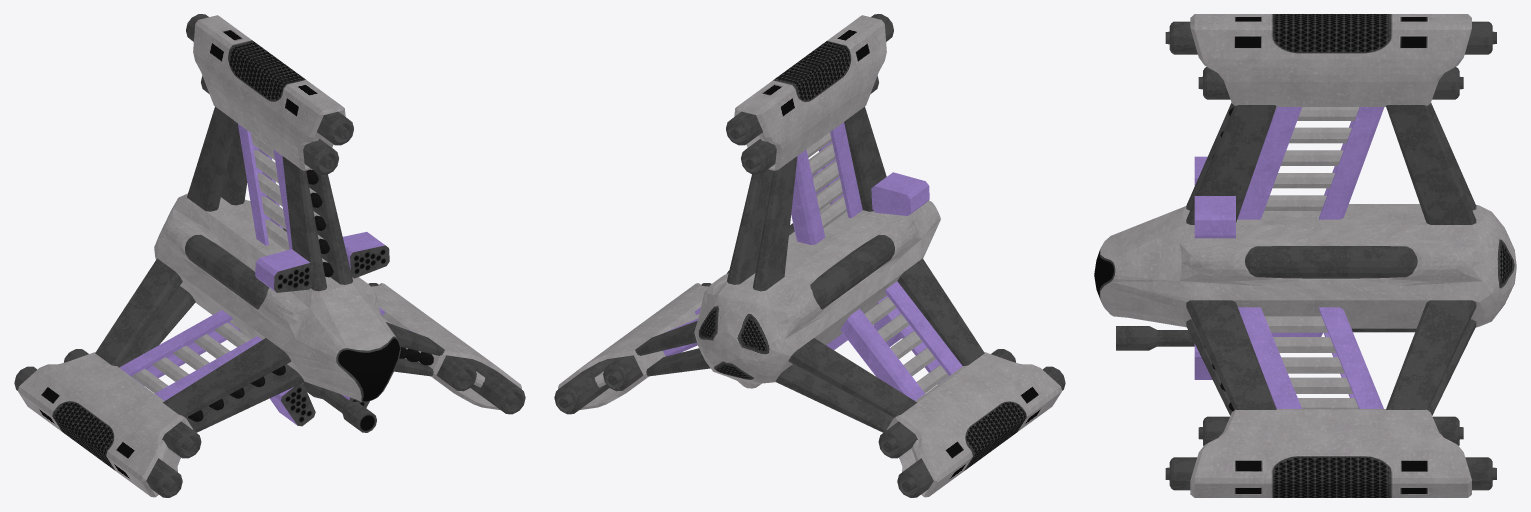
Rendered from euler.gltf.
3 views of the same model, side by side, from view 1: azimuth 30°, elevation 25°; view 2: azimuth 150°, elevation 25°; view 3: azimuth 270°, elevation 25° (orthographic). The views are drawn at different scales.
Parts seen in each view (by area): view 1: body; view 2: body; view 3: body.
Part boxes in pixels (x1=…): body: x1=14, y1=14, x2=525, y2=497; body: x1=554, y1=14, x2=1065, y2=497; body: x1=1094, y1=14, x2=1516, y2=497.
Bounding box in the file's own units: 5.85 × 5.09 × 5.09.
1 material, 1 textured.
